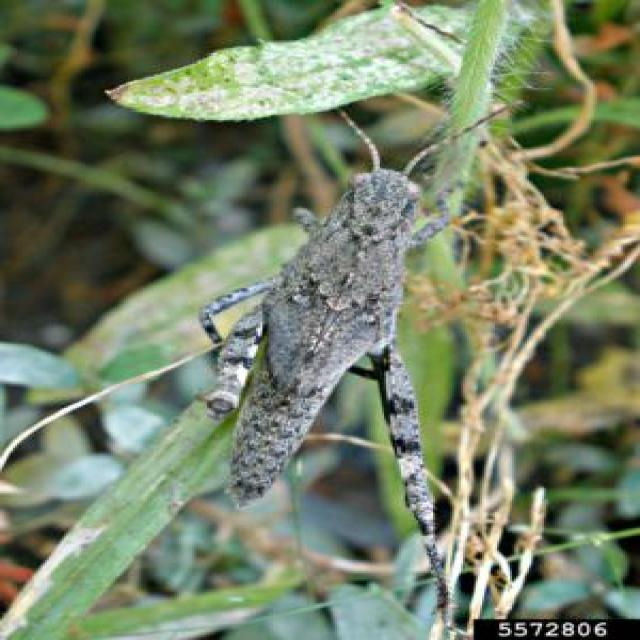antennae: (409, 104, 509, 173), (336, 111, 384, 170)
body: (232, 168, 426, 504)
insect: (181, 98, 525, 622)
legs: (363, 349, 457, 621), (200, 280, 288, 350), (404, 173, 479, 251), (213, 316, 270, 417), (290, 206, 319, 238)
wings: (226, 235, 403, 512)
